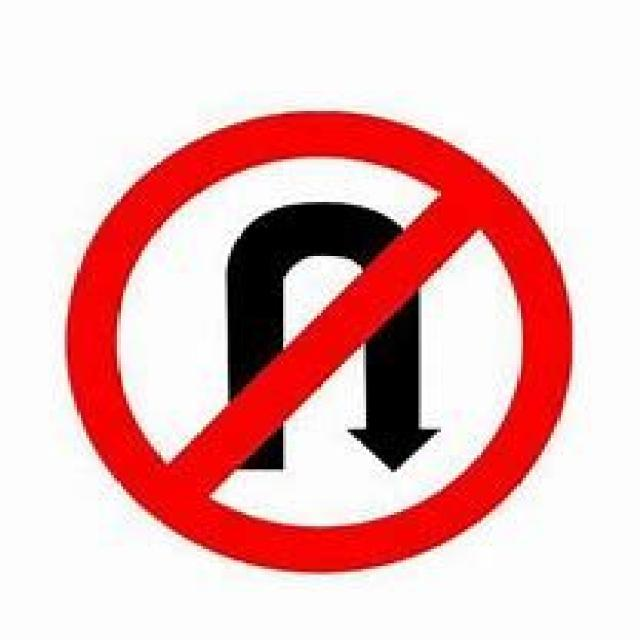u turn prohibited: (65, 110, 574, 574)
